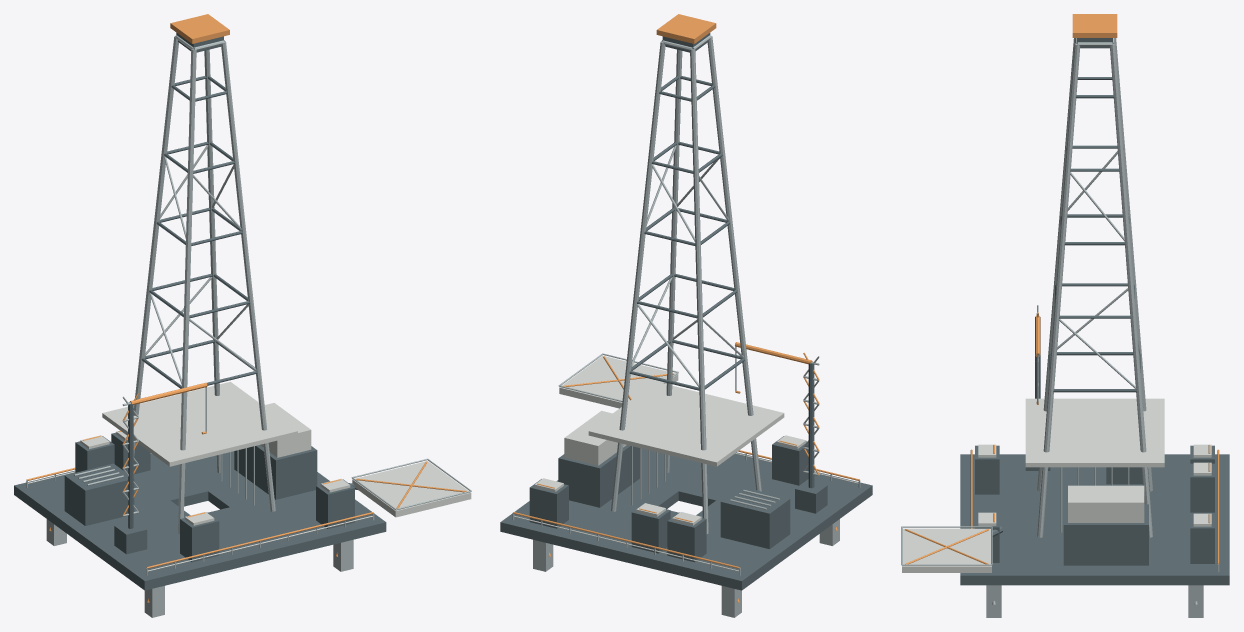
Rendered from offshore_surface_rig.glb.
3 views of the same model, side by side, from view 1: azimuth 30°, elevation 25°; view 2: azimuth 150°, elevation 25°; view 3: azimuth 270°, elevation 25° (orthographic). The views are drawn at different scales.
Visible parts, largest first — view 1: Representational offshore drilling unit · material 1, Representational offshore drilling unit · material 0, Representational offshore drilling unit · material 4, Representational offshore drilling unit · material 2; view 2: Representational offshore drilling unit · material 1, Representational offshore drilling unit · material 0, Representational offshore drilling unit · material 4, Representational offshore drilling unit · material 2; view 3: Representational offshore drilling unit · material 1, Representational offshore drilling unit · material 4, Representational offshore drilling unit · material 0, Representational offshore drilling unit · material 2.
Part boxes in pixels (<box>): Representational offshore drilling unit · material 1: <box>14,32,386,590</box>; Representational offshore drilling unit · material 0: <box>26,35,471,617</box>; Representational offshore drilling unit · material 4: <box>28,382,471,571</box>; Representational offshore drilling unit · material 2: <box>26,14,466,602</box>; Representational offshore drilling unit · material 1: <box>500,33,872,590</box>; Representational offshore drilling unit · material 0: <box>512,35,860,617</box>; Representational offshore drilling unit · material 4: <box>513,356,858,571</box>; Representational offshore drilling unit · material 2: <box>513,14,859,602</box>; Representational offshore drilling unit · material 1: <box>960,38,1229,585</box>; Representational offshore drilling unit · material 4: <box>902,398,1211,572</box>; Representational offshore drilling unit · material 0: <box>901,38,1219,617</box>; Representational offshore drilling unit · material 2: <box>905,14,1219,564</box>.
Size of the model in its own units: 15.84 by 26.75 by 14.64.
